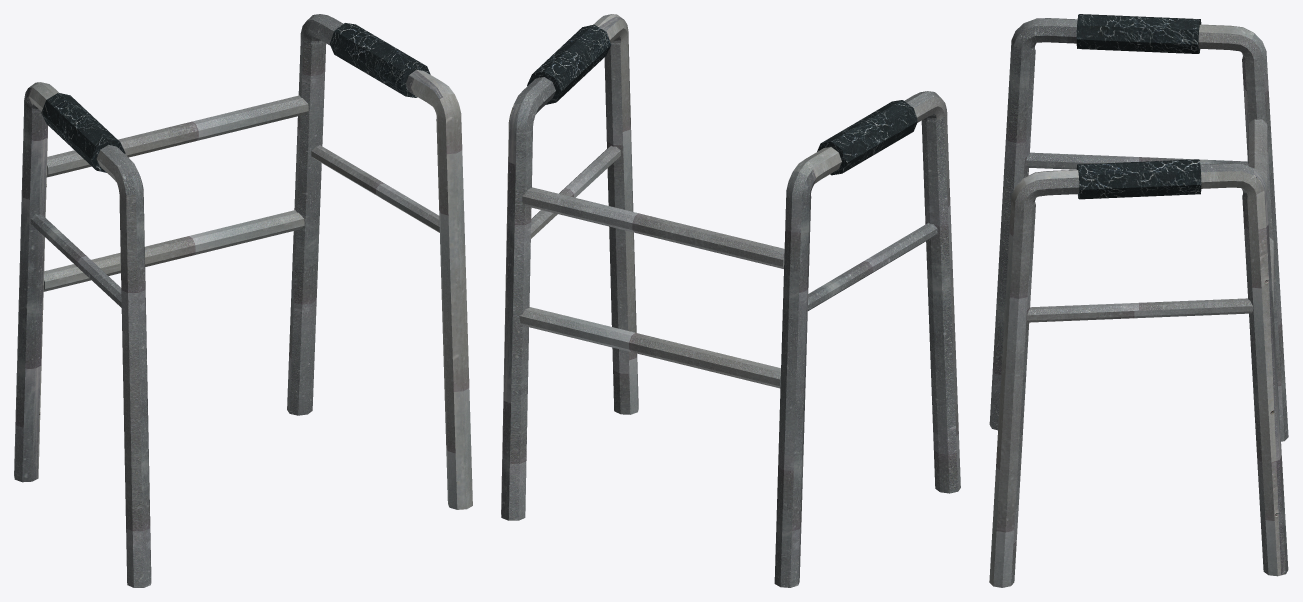
File: walker.fbx
The picture shows the model from 3 angles, left to right: view 1: azimuth 30°, elevation 25°; view 2: azimuth 150°, elevation 25°; view 3: azimuth 270°, elevation 25°; orthographic projection.
Visible parts, largest first — view 1: Walker; view 2: Walker; view 3: Walker.
Boxes of the visible parts, x1,y1,x2,y2 form: Walker: (14, 14, 472, 587); Walker: (501, 14, 960, 587); Walker: (989, 14, 1288, 587).
Size of the model in its own units: 90.41 by 104 by 68.1.
